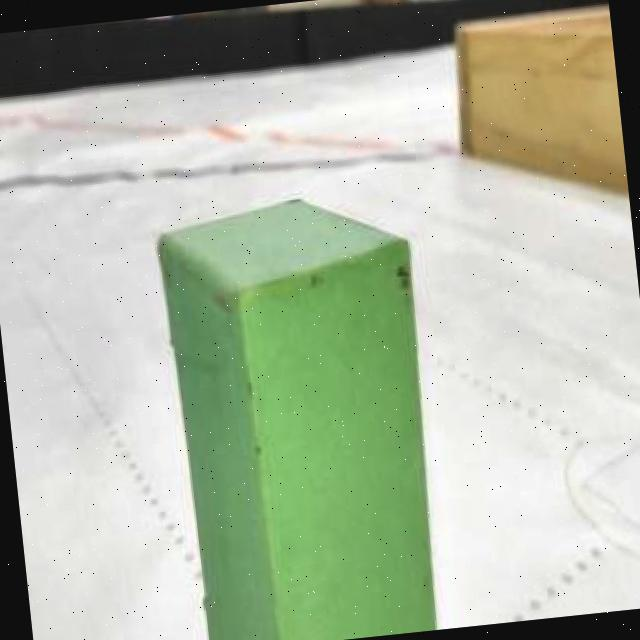greenbox: (147, 183, 448, 640)
